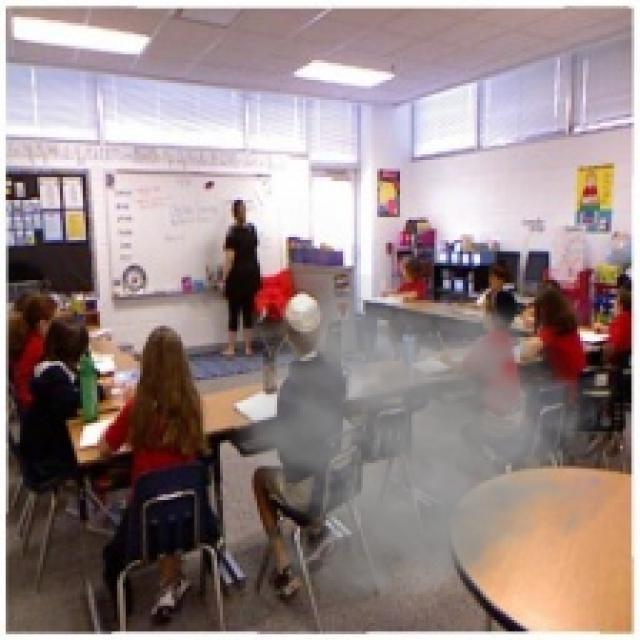Smoke: (217, 274, 620, 632)
